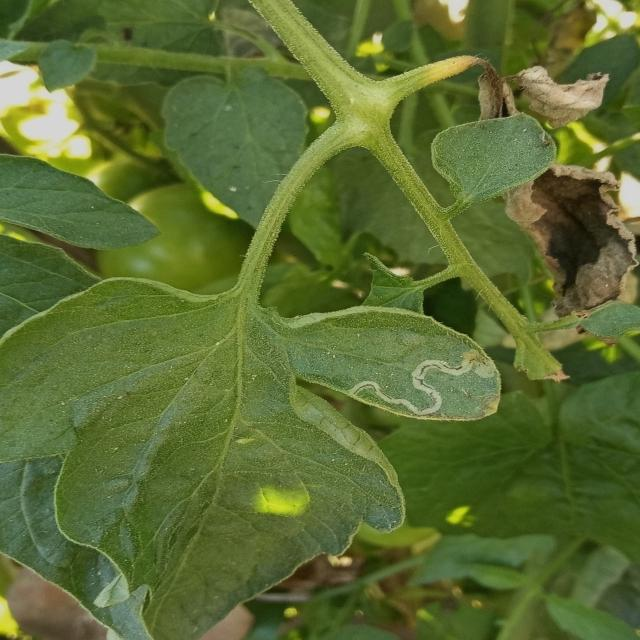Tuta absoluta: (347, 342, 497, 436)
